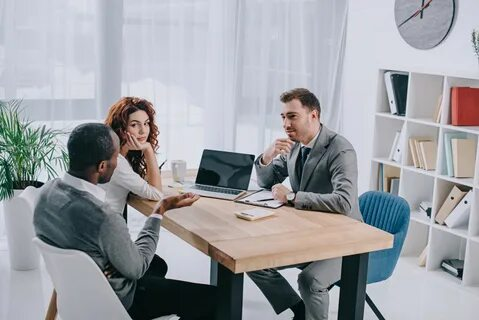awake: (31, 121, 203, 319), (255, 87, 364, 215), (101, 95, 164, 210)
